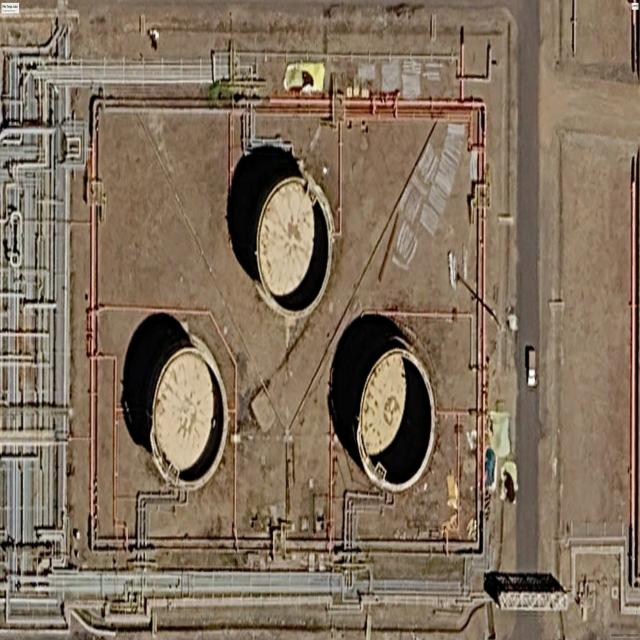Oil Rafinery: (150, 336, 228, 490), (254, 173, 333, 318), (356, 346, 434, 491)
